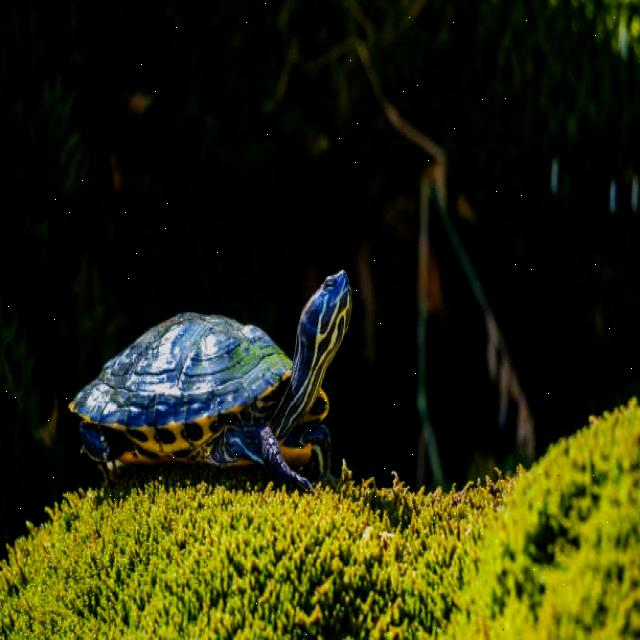tortoise: (57, 250, 367, 500)
